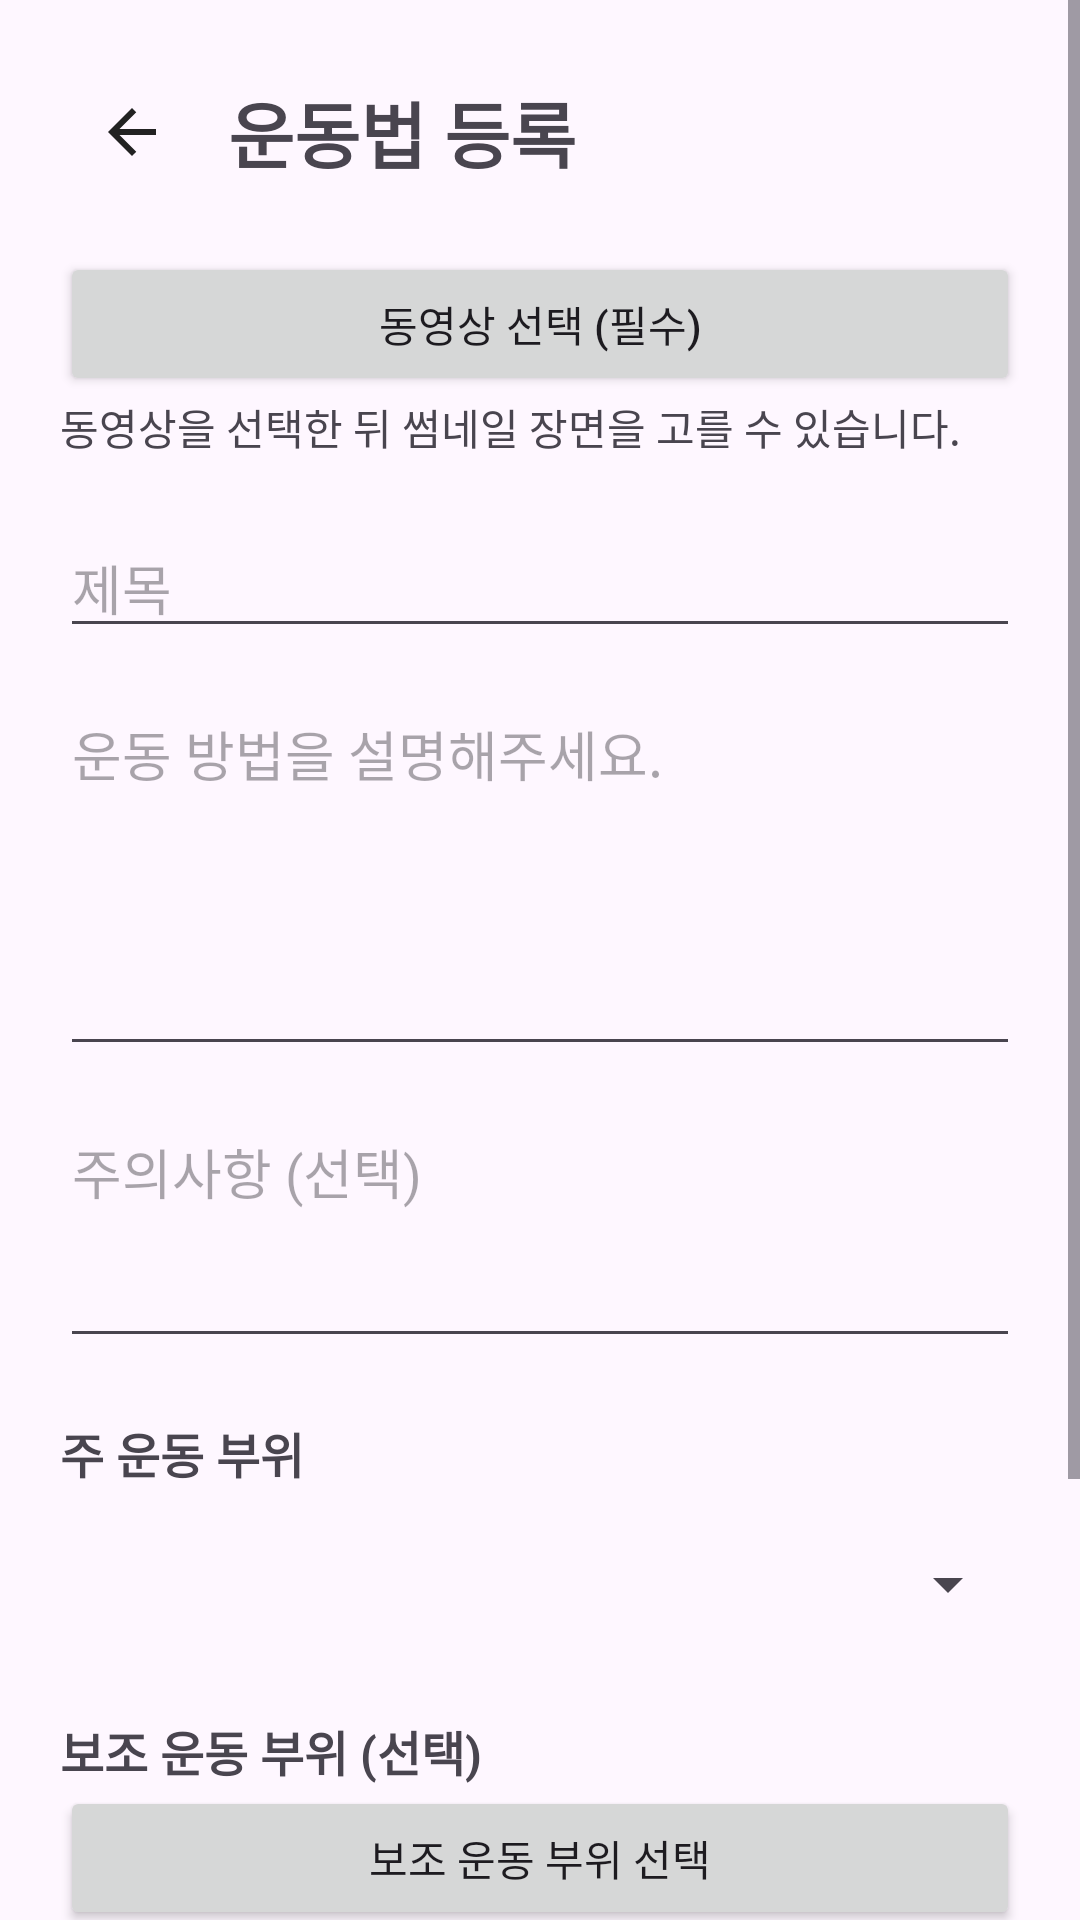

Named icons in this screenshot (1080x1920) and their bounding boxes, box=[x1, y1, x2, y2]:
뒤로가기: box=[108, 108, 156, 156]
